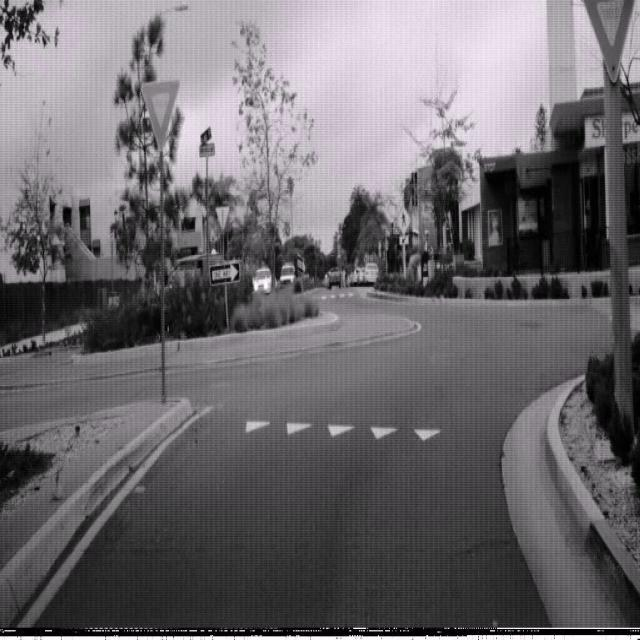pedestrianCrossing: (396, 205, 411, 234)
yield: (141, 76, 180, 152)
